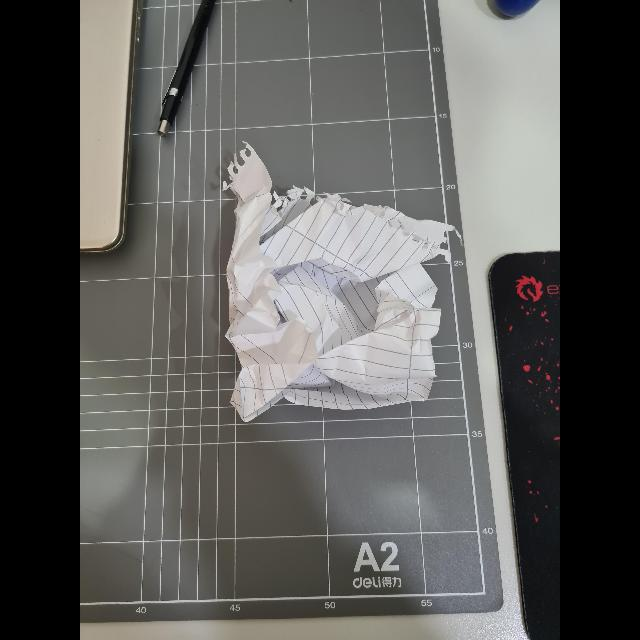scrap_paper: (219, 148, 443, 426)
